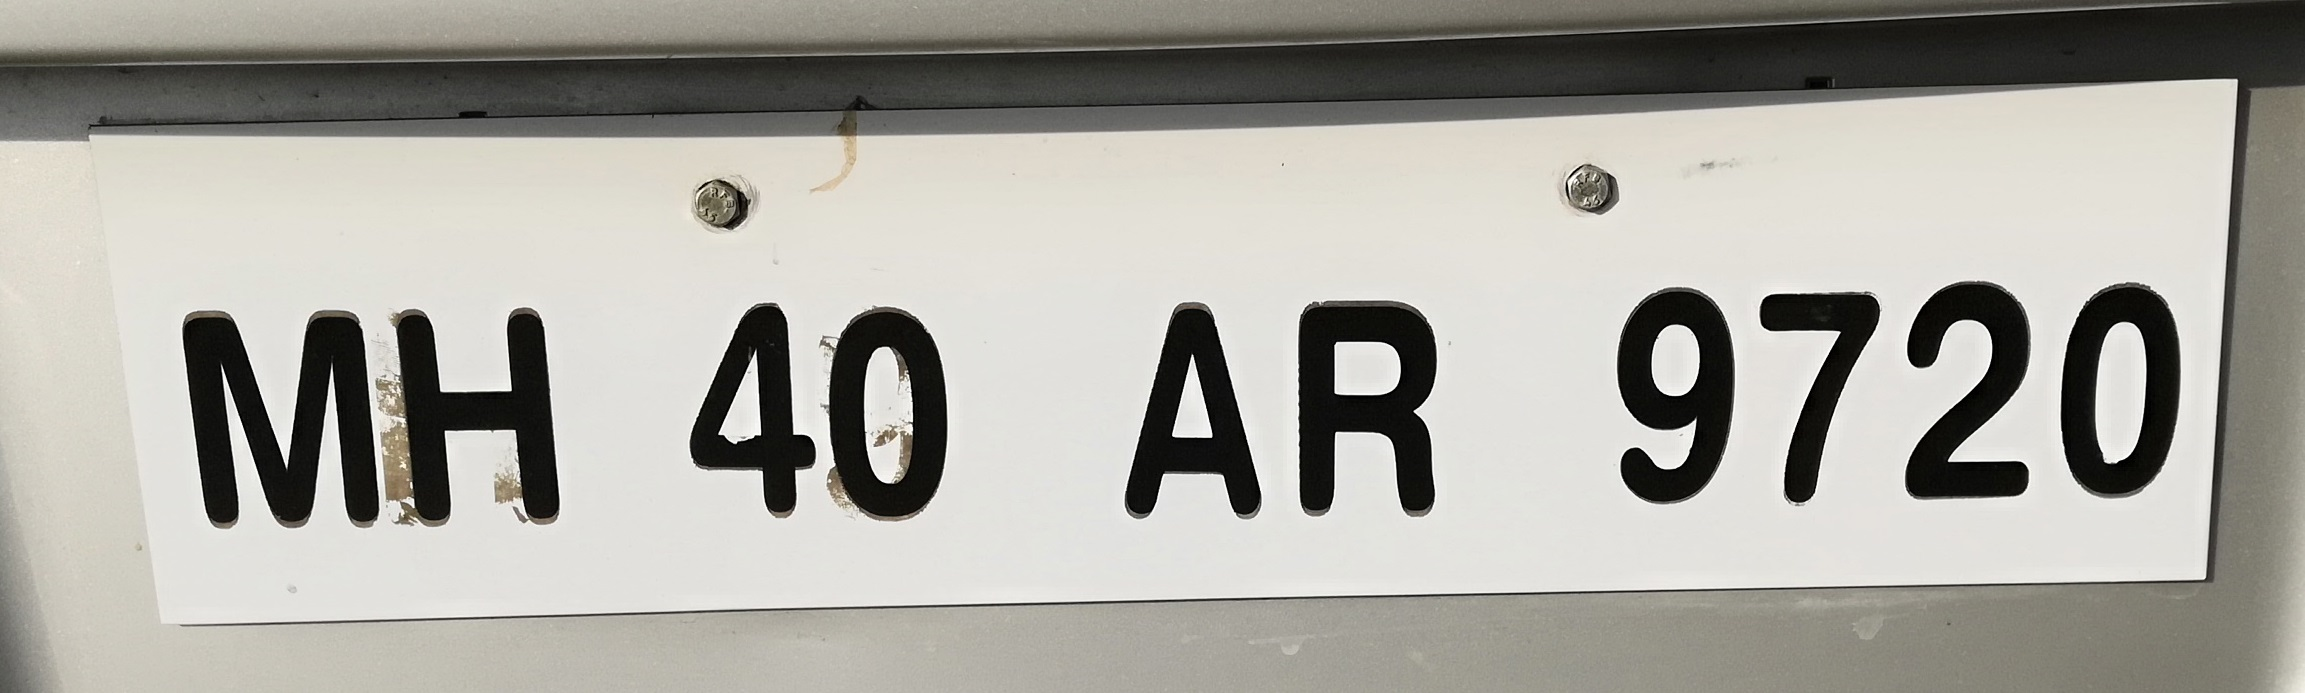numberplate: (71, 72, 2249, 630)
